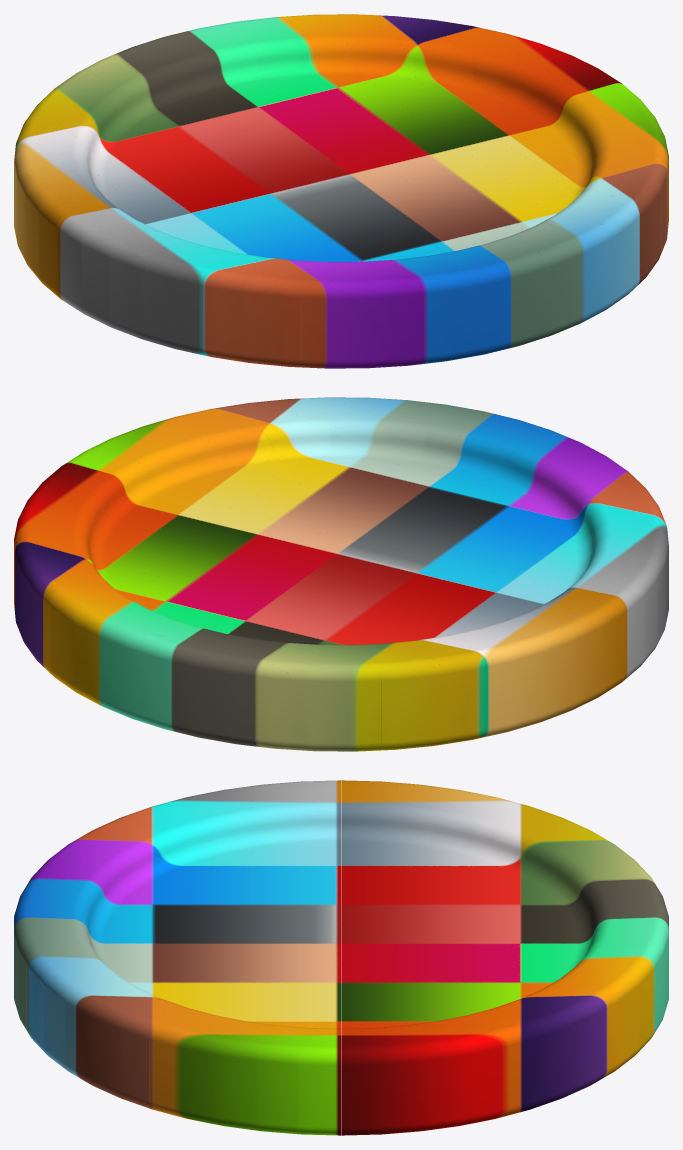
The model's file is TestCoinFracture.fbx.
3 views of the same model, one above another, from view 1: azimuth 30°, elevation 25°; view 2: azimuth 150°, elevation 25°; view 3: azimuth 270°, elevation 25° (orthographic).
Visible parts, largest first — view 1: pCylinder7.038, pCylinder7.032, pCylinder7.041, pCylinder7.042, pCylinder7.035, pCylinder7.043, pCylinder7.044, pCylinder7.039, pCylinder7.030, pCylinder7.029, pCylinder7.036, pCylinder7.037 (+155 smaller); view 2: pCylinder7.017, pCylinder7.023, pCylinder7.014, pCylinder7.013, pCylinder7.020, pCylinder7.012, pCylinder7.011, pCylinder7.015, pCylinder7.024, pCylinder7.026, pCylinder7.018, pCylinder7.019 (+155 smaller); view 3: pCylinder7.004, pCylinder7.051, pCylinder7, pCylinder7.055, pCylinder7.001, pCylinder7.053, pCylinder7.005, pCylinder7.050, pCylinder7.003, pCylinder7.052, pCylinder7.007, pCylinder7.048 (+152 smaller).
Part boxes in pixels (x1,y1,x2,y2): pCylinder7.038: [325, 271, 382, 368]; pCylinder7.032: [147, 251, 205, 353]; pCylinder7.041: [422, 268, 469, 363]; pCylinder7.042: [460, 259, 508, 357]; pCylinder7.035: [239, 273, 280, 365]; pCylinder7.043: [498, 250, 544, 348]; pCylinder7.044: [535, 241, 577, 338]; pCylinder7.039: [391, 277, 427, 365]; pCylinder7.030: [112, 243, 145, 338]; pCylinder7.029: [82, 228, 124, 329]; pCylinder7.036: [265, 265, 324, 367]; pCylinder7.037: [302, 279, 333, 368]; pCylinder7.017: [300, 654, 357, 751]; pCylinder7.023: [477, 634, 535, 736]; pCylinder7.014: [213, 651, 260, 746]; pCylinder7.013: [174, 642, 222, 740]; pCylinder7.020: [402, 656, 443, 748]; pCylinder7.012: [138, 633, 184, 731]; pCylinder7.011: [105, 624, 147, 721]; pCylinder7.015: [255, 660, 291, 748]; pCylinder7.024: [537, 626, 570, 721]; pCylinder7.026: [558, 611, 600, 712]; pCylinder7.018: [349, 662, 380, 751]; pCylinder7.019: [358, 648, 417, 750]; pCylinder7.004: [472, 1027, 515, 1123]; pCylinder7.051: [167, 1027, 210, 1123]; pCylinder7: [341, 1045, 384, 1135]; pCylinder7.055: [298, 1045, 341, 1135]; pCylinder7.001: [385, 1045, 428, 1134]; pCylinder7.053: [254, 1045, 297, 1134]; pCylinder7.005: [516, 1008, 559, 1111]; pCylinder7.050: [123, 1008, 166, 1111]; pCylinder7.003: [428, 1027, 472, 1130]; pCylinder7.052: [210, 1027, 254, 1130]; pCylinder7.007: [559, 990, 603, 1091]; pCylinder7.048: [79, 990, 123, 1091].
Bounding box in the file's own units: 618 × 90.25 × 616.
